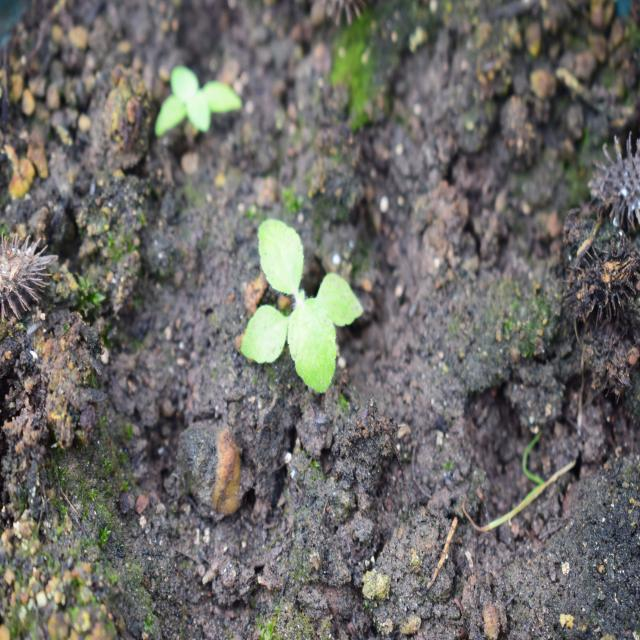billygoat_weed: (235, 214, 358, 412)
